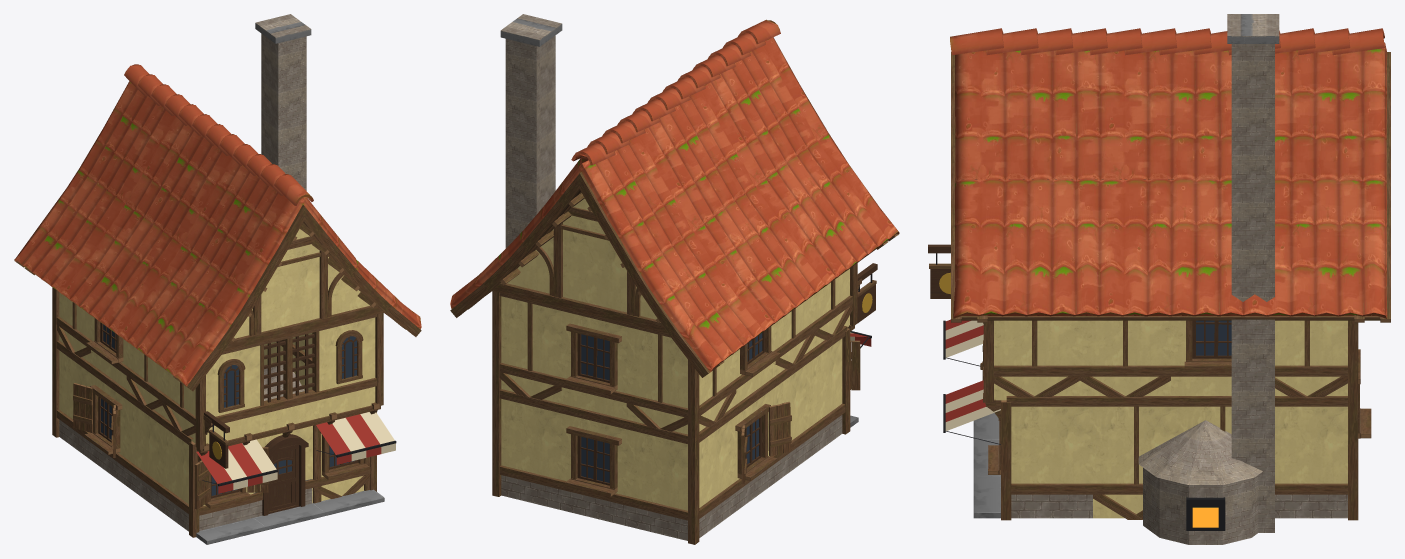
File: bakery.glb
3 views of the same model, side by side, from view 1: azimuth 30°, elevation 25°; view 2: azimuth 150°, elevation 25°; view 3: azimuth 270°, elevation 25° (orthographic). The views are drawn at different scales.
Visible parts, largest first — view 1: Roof_RoundTiles_6x8.059, Roof_Front_Brick6.060, Stack.066, Wall_Plaster_WoodGrid+upper.038, Wall_Plaster_Window_Thin_Round+upper.039, Wall_Plaster_Straight_Base.017, Wall_Plaster_Window_Thin_Round+upper.036, Wall_Plaster_Straight_Base.018, Wall_Plaster_Straight_Base.013, Wall_Plaster_Straight+upper.048, Wall_Plaster_Window_Wide_Flat2.007, Door_1_Round.006 (+28 smaller); view 2: Roof_RoundTiles_6x8.059, Roof_Front_Brick6.061, Stack.066, Wall_Plaster_Straight_Base.009, Wall_Plaster_Straight_Base.012, Wall_Plaster_Straight+upper.041, Wall_Plaster_Straight+upper.044, Wall_Plaster_Window_Wide_Flat.010, Wall_Plaster_Straight_Base.018, Wall_Plaster_Straight_Base.013, Wall_Plaster_Window_Wide_Flat+upper.042, Window_Wide_Flat1.011 (+17 smaller); view 3: Roof_RoundTiles_6x8.059, Stack.066, Wall_Plaster_Straight_Base.019, Wall_Plaster_Straight_Base.022, Wall_Plaster_Straight.020, Wall_Plaster_Straight+upper.051, Wall_Plaster_Straight+upper.050, Oven.062, Wall_Plaster_Straight+upper.054, OvenDome.063, Window_Wide_Flat1.053, Wall_Plaster_Window_Wide_Flat+upper.052 (+15 smaller).
Boxes of the visible parts, left/top/right/bottom form: Roof_RoundTiles_6x8.059: left=14, top=64, right=421, bottom=391; Roof_Front_Brick6.060: left=224, top=224, right=383, bottom=351; Stack.066: left=261, top=33, right=306, bottom=190; Wall_Plaster_WoodGrid+upper.038: left=260, top=328, right=320, bottom=432; Wall_Plaster_Window_Thin_Round+upper.039: left=319, top=314, right=376, bottom=417; Wall_Plaster_Straight_Base.017: left=123, top=389, right=159, bottom=510; Wall_Plaster_Window_Thin_Round+upper.036: left=206, top=342, right=261, bottom=443; Wall_Plaster_Straight_Base.018: left=157, top=414, right=193, bottom=531; Wall_Plaster_Straight_Base.013: left=56, top=340, right=91, bottom=460; Wall_Plaster_Straight+upper.048: left=126, top=343, right=164, bottom=417; Wall_Plaster_Window_Wide_Flat2.007: left=312, top=425, right=370, bottom=503; Door_1_Round.006: left=268, top=444, right=298, bottom=513; Roof_RoundTiles_6x8.059: left=450, top=19, right=899, bottom=377; Roof_Front_Brick6.061: left=492, top=193, right=668, bottom=333; Stack.066: left=505, top=35, right=555, bottom=248; Wall_Plaster_Straight_Base.009: left=499, top=389, right=563, bottom=510; Wall_Plaster_Straight_Base.012: left=626, top=420, right=687, bottom=540; Wall_Plaster_Straight+upper.041: left=499, top=293, right=563, bottom=403; Wall_Plaster_Straight+upper.044: left=626, top=324, right=687, bottom=434; Wall_Plaster_Window_Wide_Flat.010: left=561, top=404, right=628, bottom=526; Wall_Plaster_Straight_Base.018: left=806, top=326, right=847, bottom=459; Wall_Plaster_Straight_Base.013: left=699, top=408, right=734, bottom=537; Wall_Plaster_Window_Wide_Flat+upper.042: left=561, top=308, right=628, bottom=419; Window_Wide_Flat1.011: left=565, top=426, right=621, bottom=496; Roof_RoundTiles_6x8.059: left=950, top=28, right=1390, bottom=322; Stack.066: left=1231, top=44, right=1274, bottom=532; Wall_Plaster_Straight_Base.019: left=1006, top=396, right=1092, bottom=518; Wall_Plaster_Straight_Base.022: left=1275, top=396, right=1347, bottom=518; Wall_Plaster_Straight.020: left=1093, top=396, right=1179, bottom=519; Wall_Plaster_Straight+upper.051: left=1080, top=320, right=1170, bottom=397; Wall_Plaster_Straight+upper.050: left=994, top=320, right=1079, bottom=400; Oven.062: left=1143, top=468, right=1258, bottom=544; Wall_Plaster_Straight+upper.054: left=1275, top=320, right=1347, bottom=397; OvenDome.063: left=1138, top=420, right=1262, bottom=484; Window_Wide_Flat1.053: left=1184, top=320, right=1231, bottom=370; Wall_Plaster_Window_Wide_Flat+upper.052: left=1171, top=320, right=1231, bottom=395.
Bounding box in the file's own units: 8.69 × 12.71 × 10.67.
11 materials, 5 textured.
